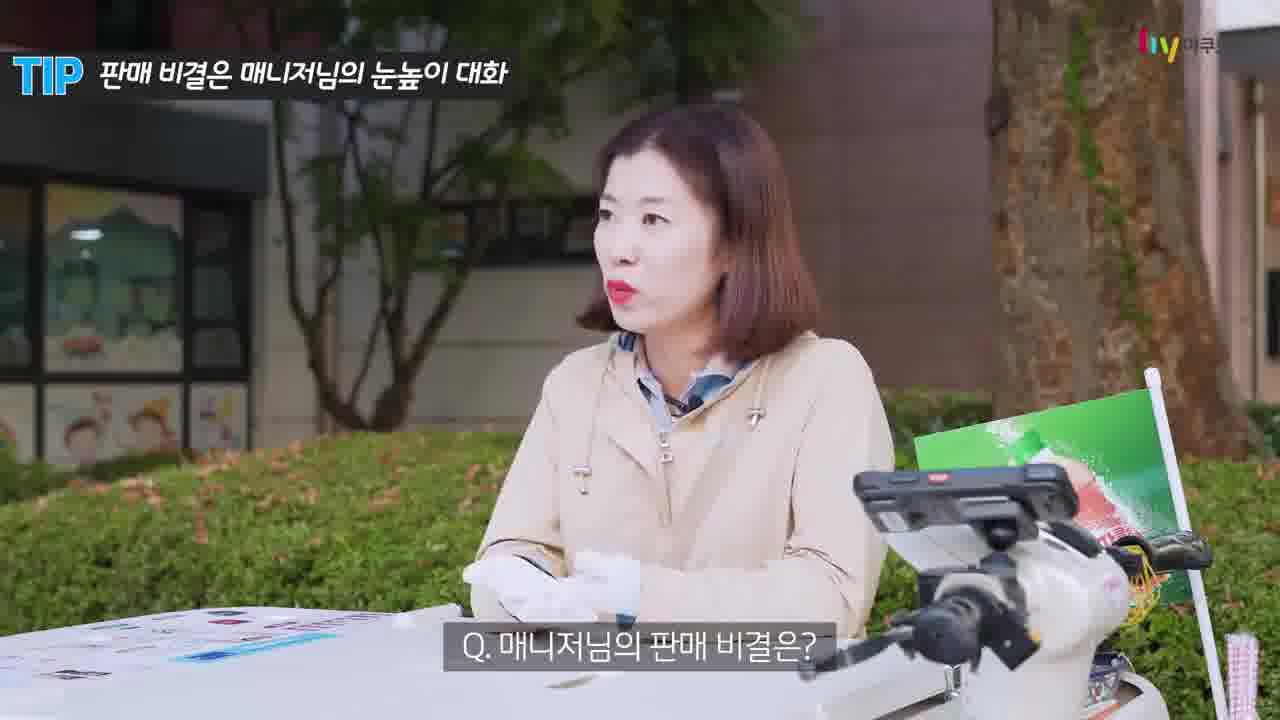Yakurut: (428, 106, 906, 628)
